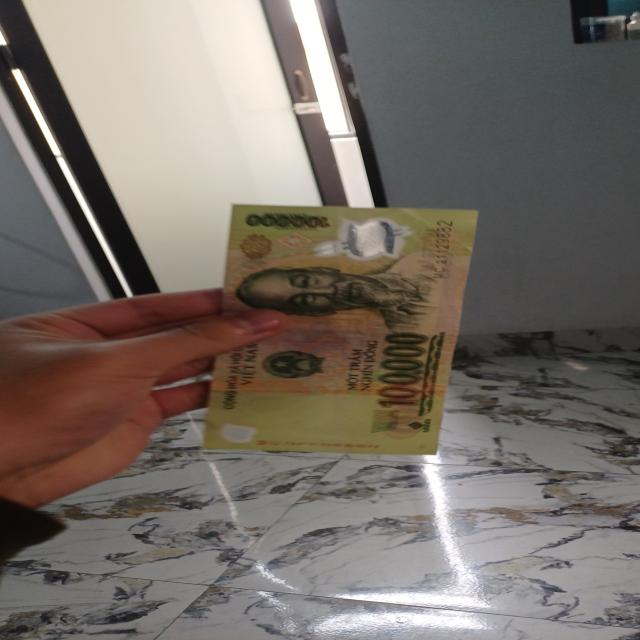100 000 VND: (191, 200, 485, 460)
